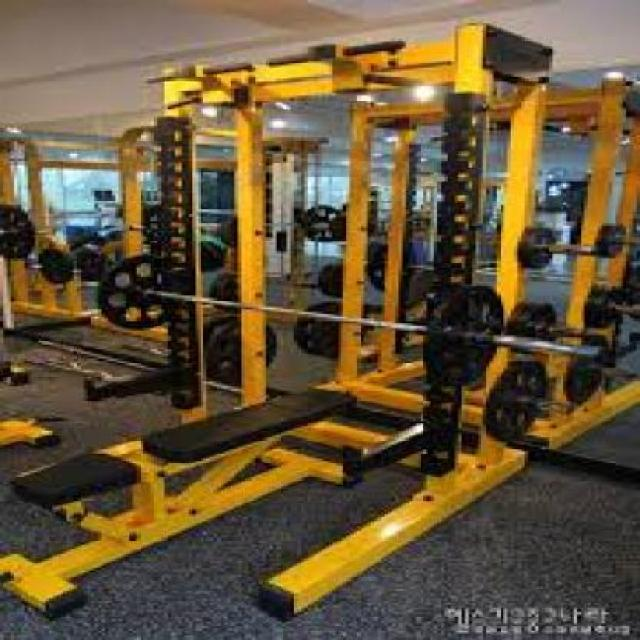smith machine: (137, 23, 558, 594)
